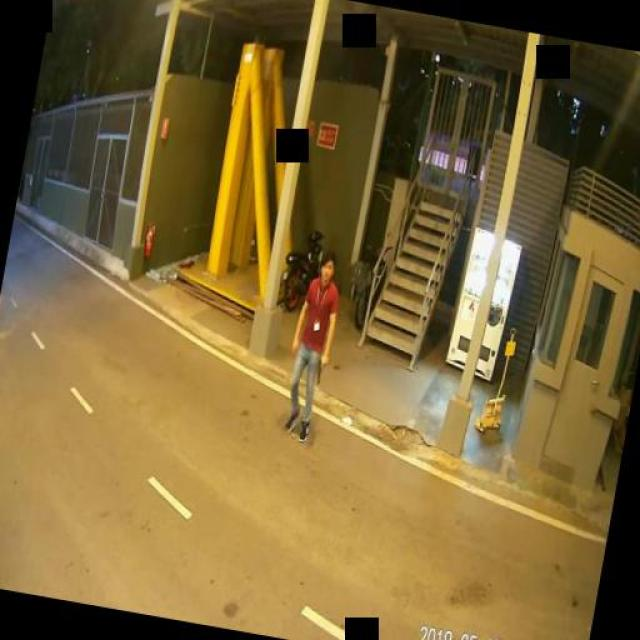gun: (314, 354, 326, 381)
